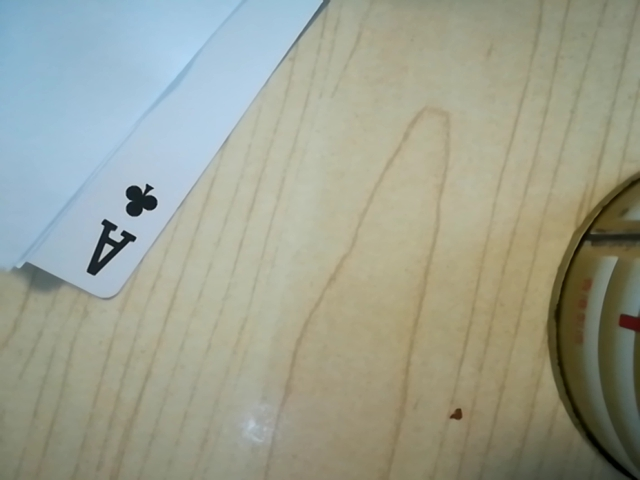mh a: (69, 172, 166, 281)
